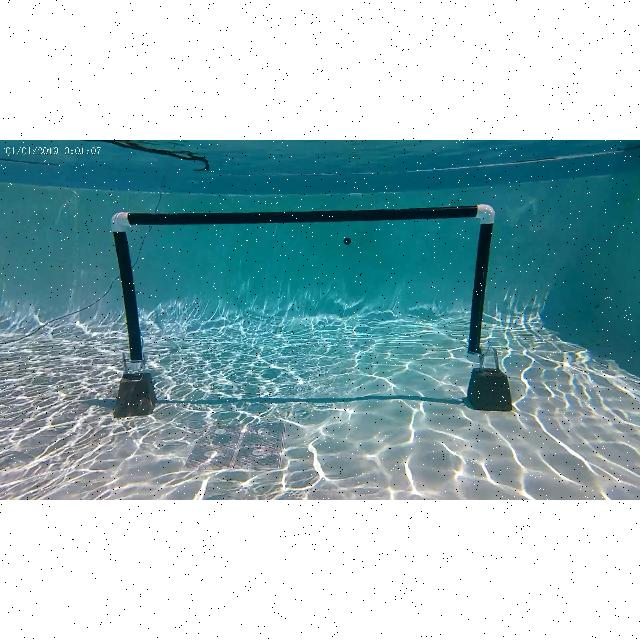prequal gate: (110, 205, 496, 368)
prequal gate leg l: (110, 210, 148, 366)
prequal gate leg r: (463, 205, 497, 361)
